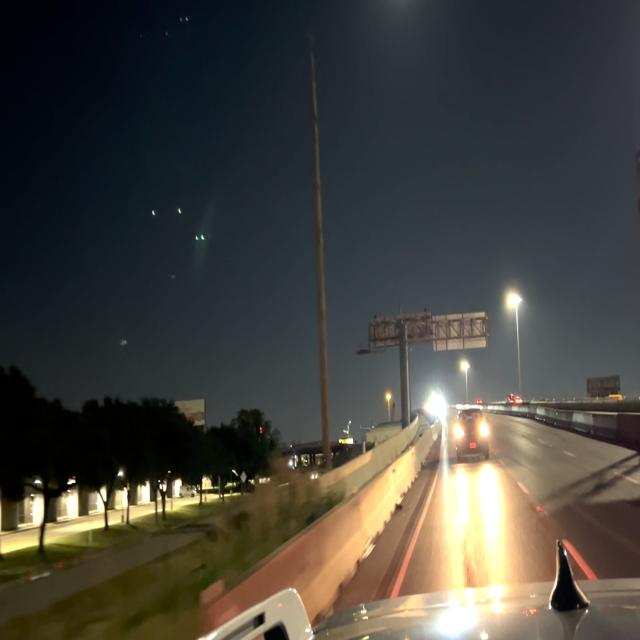back-of-sign: (428, 309, 490, 354)
